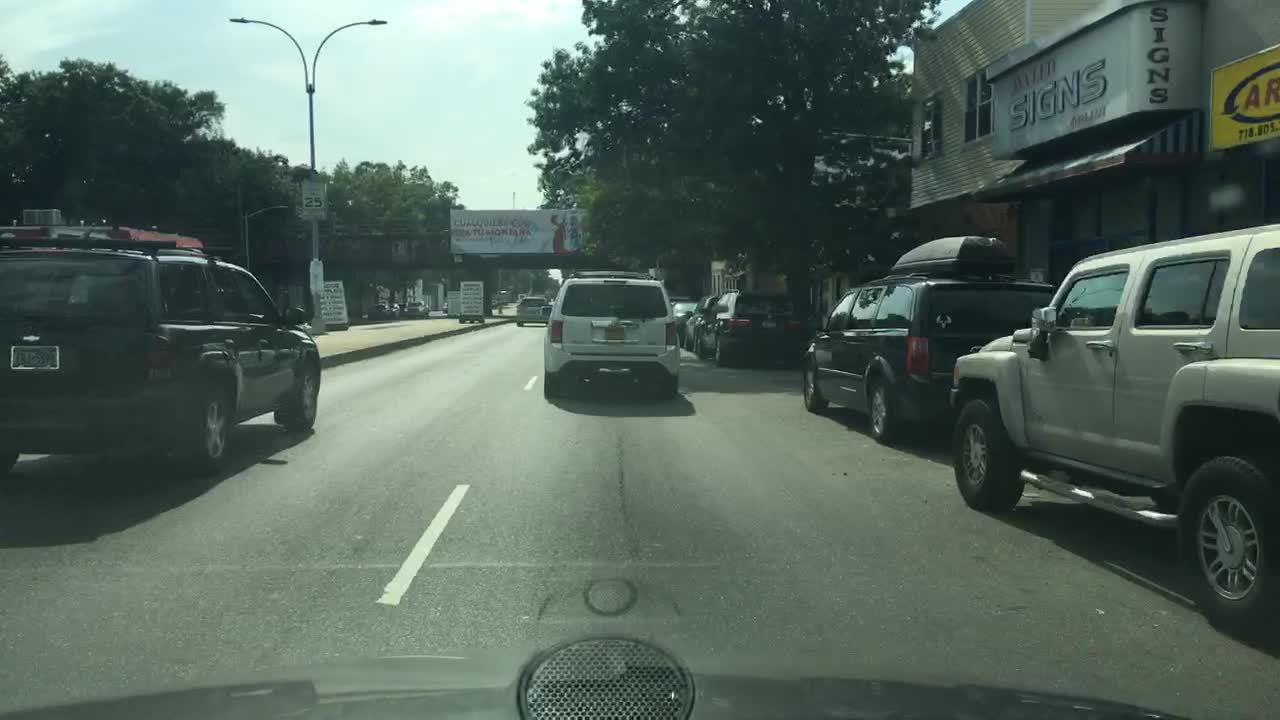car: (948, 219, 1279, 609), (0, 210, 322, 485), (801, 233, 1072, 439), (542, 269, 683, 398), (709, 290, 805, 374), (680, 293, 734, 352), (669, 299, 700, 345), (515, 295, 551, 327), (410, 300, 432, 316), (369, 301, 389, 315), (398, 304, 409, 313), (390, 304, 399, 315), (441, 302, 450, 313), (491, 299, 497, 307), (518, 293, 526, 299), (535, 294, 546, 297)
traffic sign: (322, 279, 350, 323), (302, 179, 327, 220), (457, 281, 484, 318)
